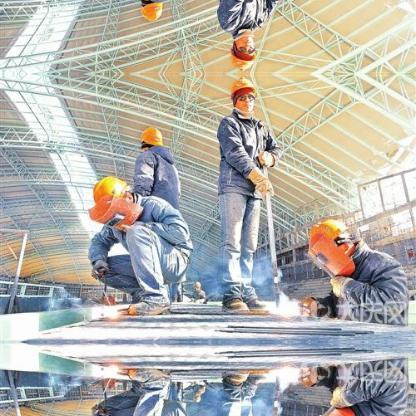helmet: (300, 212, 352, 262), (86, 168, 132, 213), (228, 75, 260, 108), (137, 122, 167, 149)
